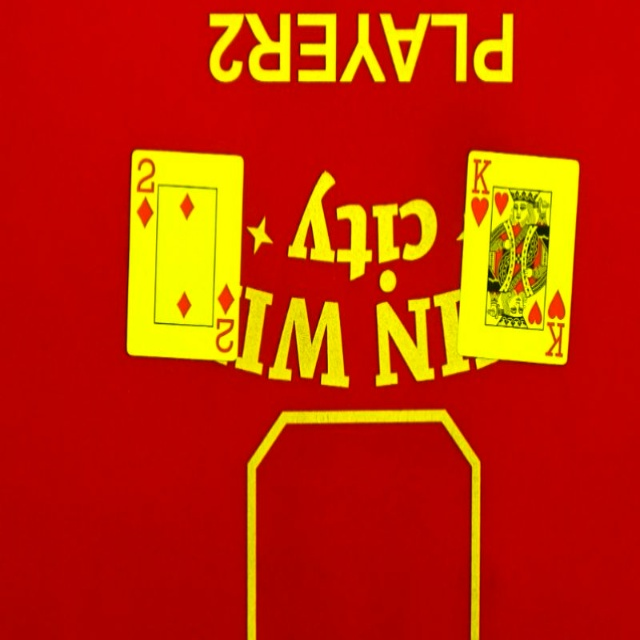2D: (212, 283, 238, 358), (130, 157, 156, 230)
KH: (463, 151, 493, 229), (542, 285, 569, 359)
